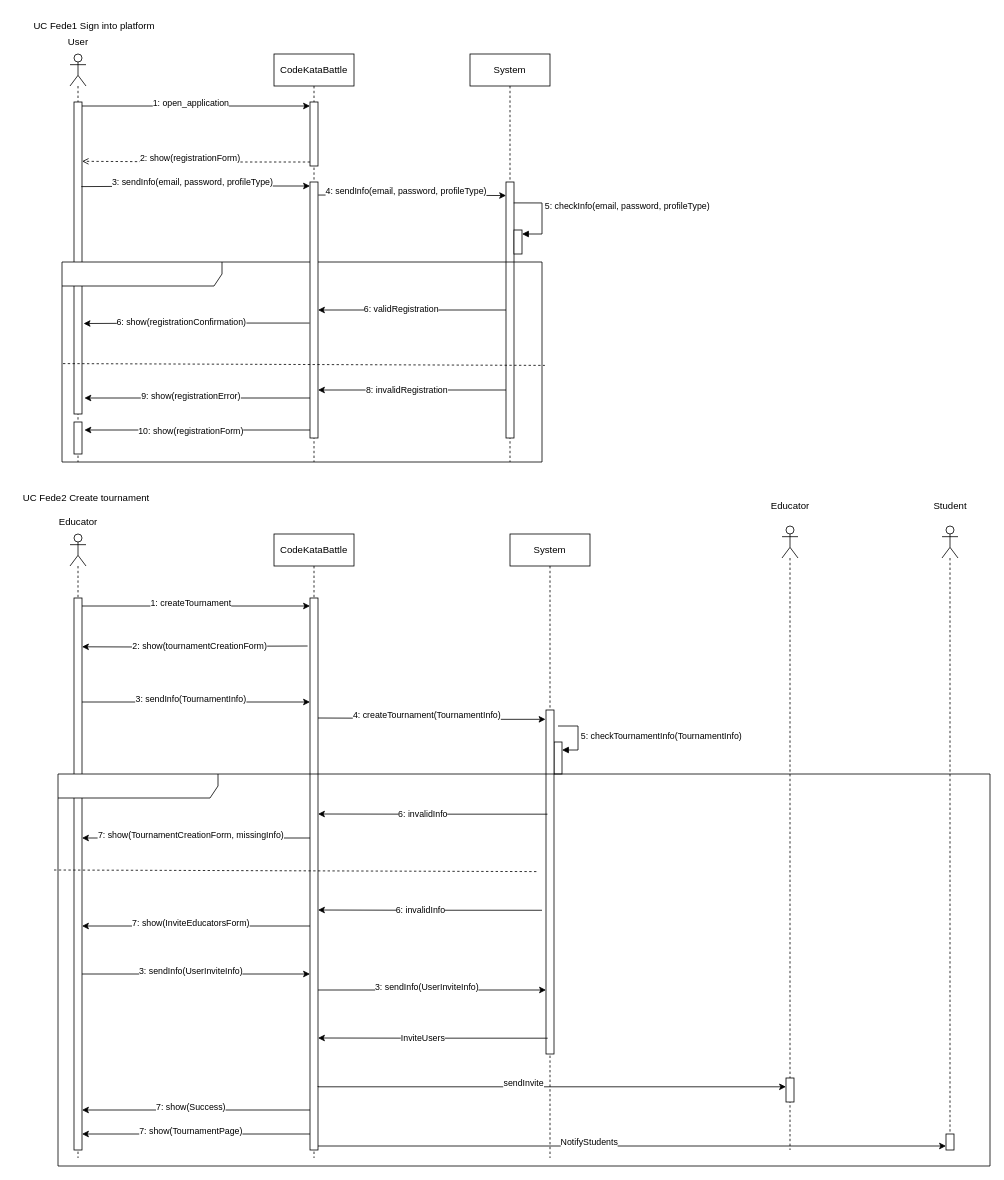
Image size: 1004x1180. Some labels were removed from this diagram. Each missing label, with the box of its shape:
alt validRegistrationInfo == true: (61, 261, 542, 462)
alt validTournamentInfo == false: (57, 773, 990, 1166)
